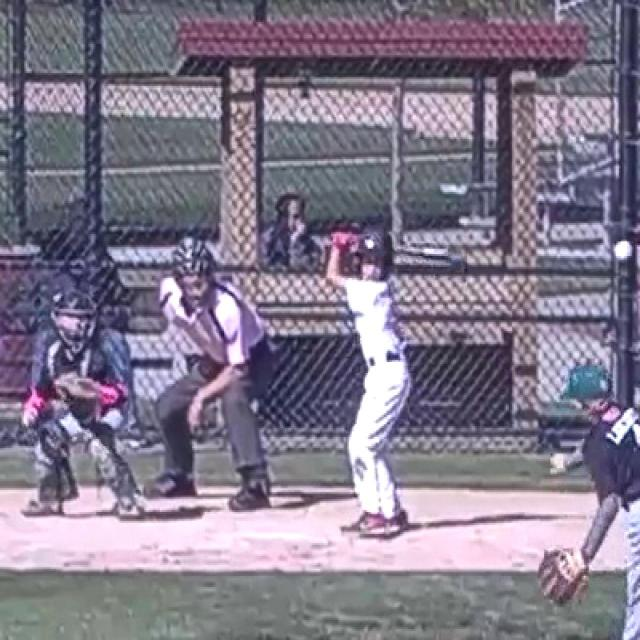baseball: (614, 241, 632, 259)
